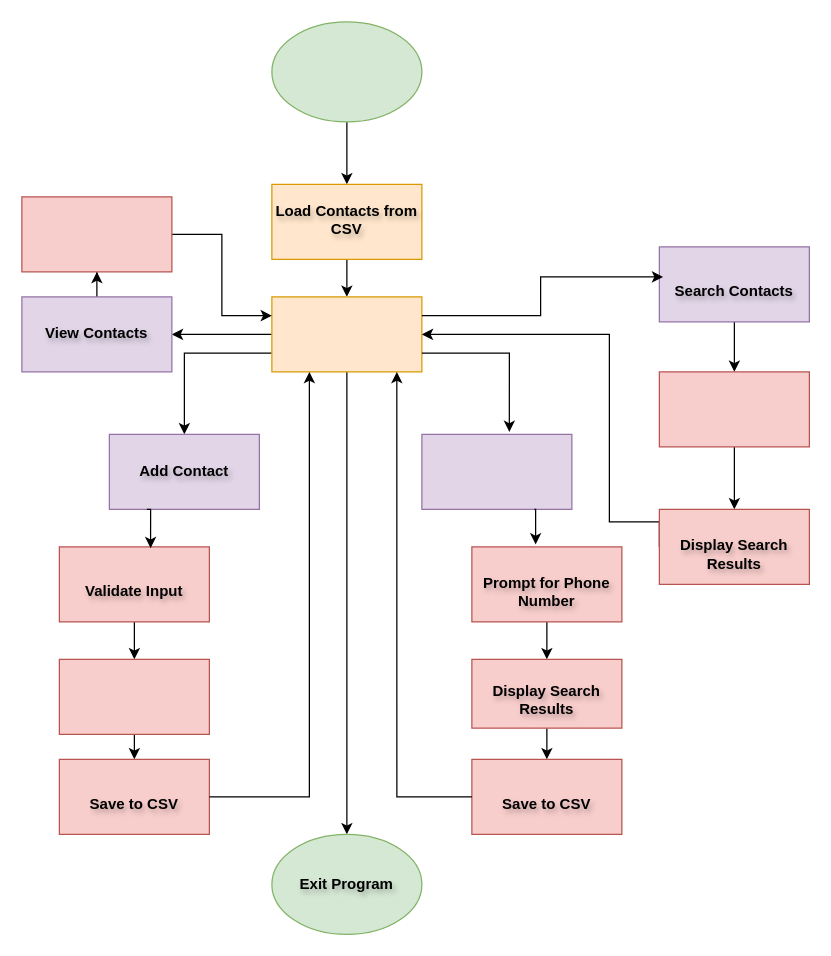
The diagram is 831 pixels wide and 956 high, and some of its shapes have lost their labels. Here are the shapes that lost their labels. From the top down, the centre of each, then its label:
(346,71): Start Program
(96,234): Display All Contacts
(346,334): Display Main Menu
(733,409): Prompt for Search Query
(496,471): Remove Contact
(133,696): Add to ContactBook
